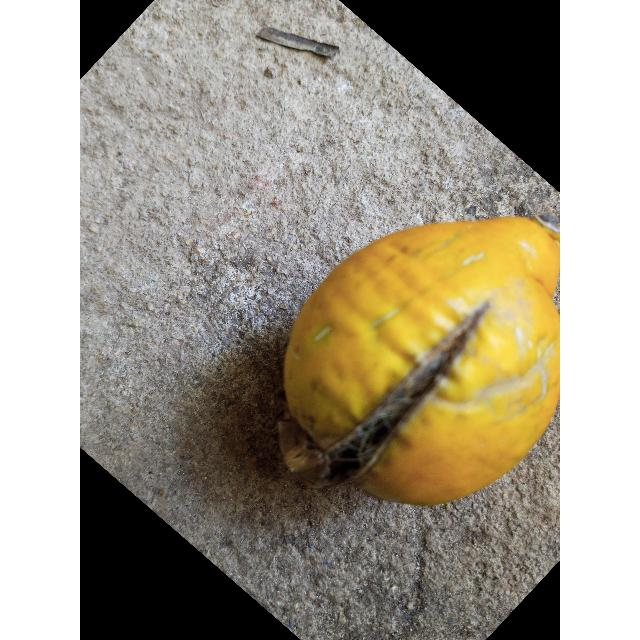damaged: (278, 216, 560, 505)
